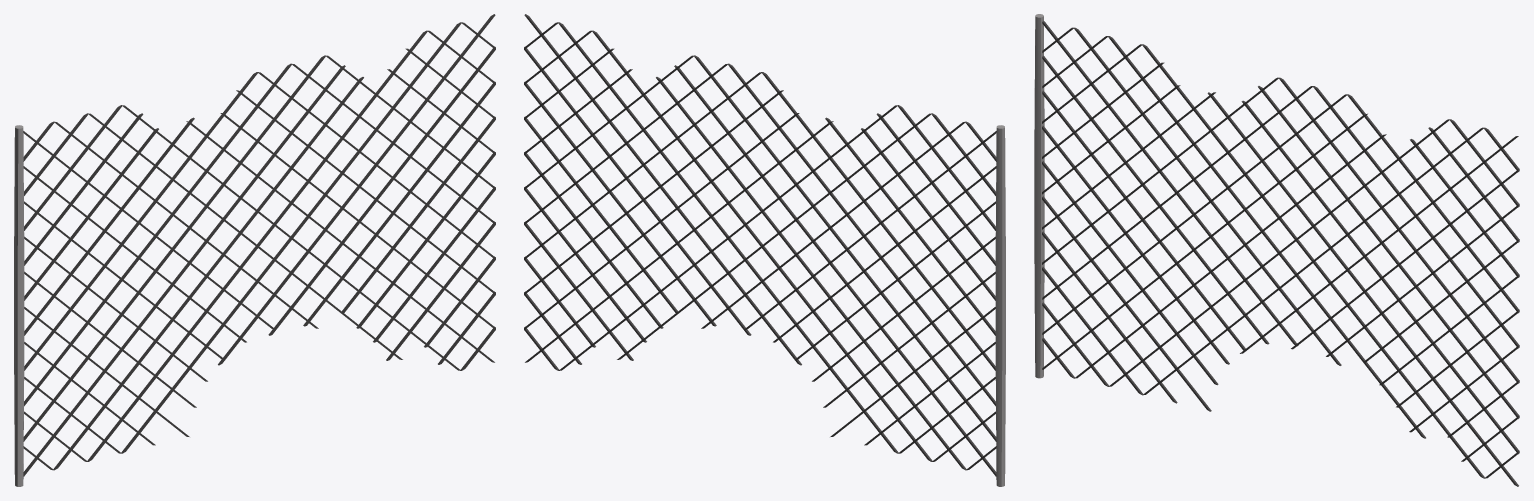
File: fence_hole.fbx
3 renders of one model, left to right at view 1: azimuth 30°, elevation 25°; view 2: azimuth 150°, elevation 25°; view 3: azimuth 330°, elevation 25°, orthographic.
Parts seen in each view (by area): view 1: net, pole.001; view 2: net, pole.001; view 3: net, pole.001.
Part boxes in pixels (x1,y1,x2,y2): net: (23, 14, 495, 476); pole.001: (14, 125, 24, 486); net: (524, 14, 996, 476); pole.001: (995, 125, 1005, 486); net: (1042, 21, 1519, 486); pole.001: (1034, 14, 1044, 378).
Bounding box in the file's own units: 100 × 71.46 × 1.55.
